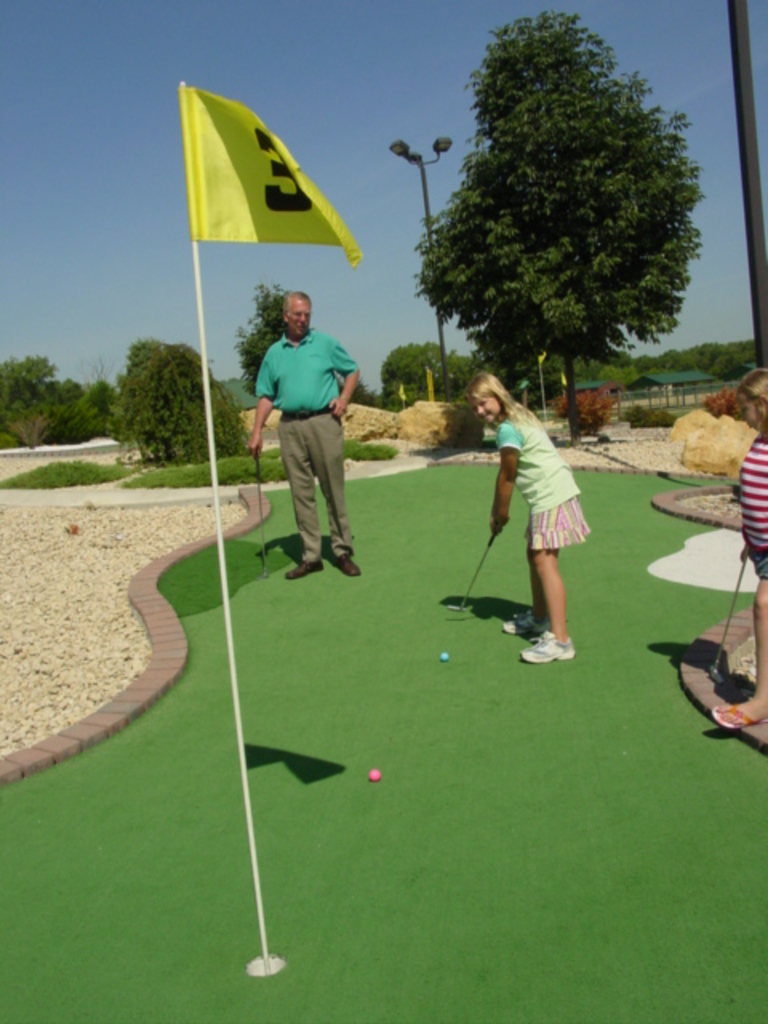Person: (463, 372, 589, 663), (246, 288, 360, 580), (712, 364, 768, 731)
